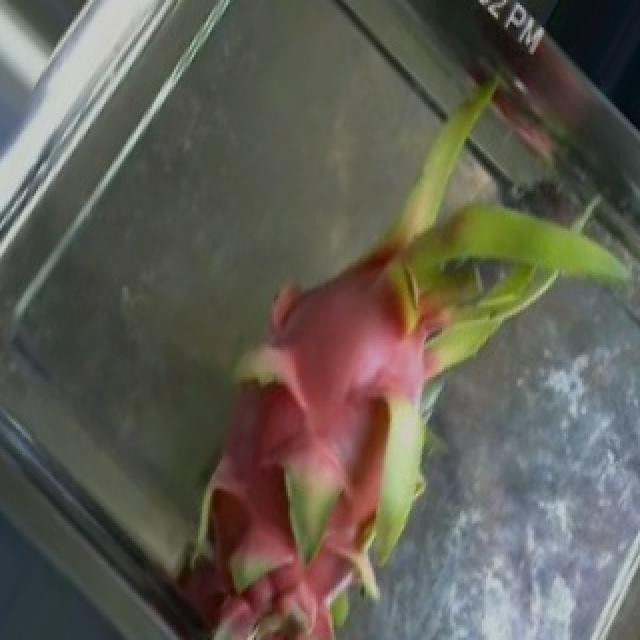fruit: (226, 2, 640, 402), (68, 238, 410, 640)
